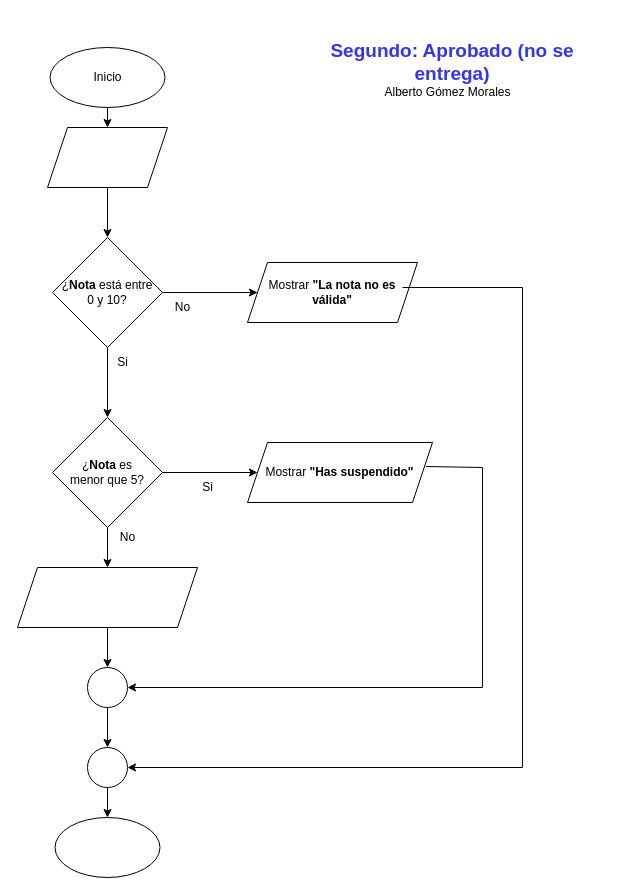
The diagram is 620 pixels wide and 895 high, and some of its shapes have lost their labels. The shapes that lost their labels are listed below. From the top down, each one's centre as x and y in pixels, then its label:
(x=107, y=157): Preguntar nota
(x=107, y=597): Mostrar "Has aprobado"
(x=107, y=847): Fin
